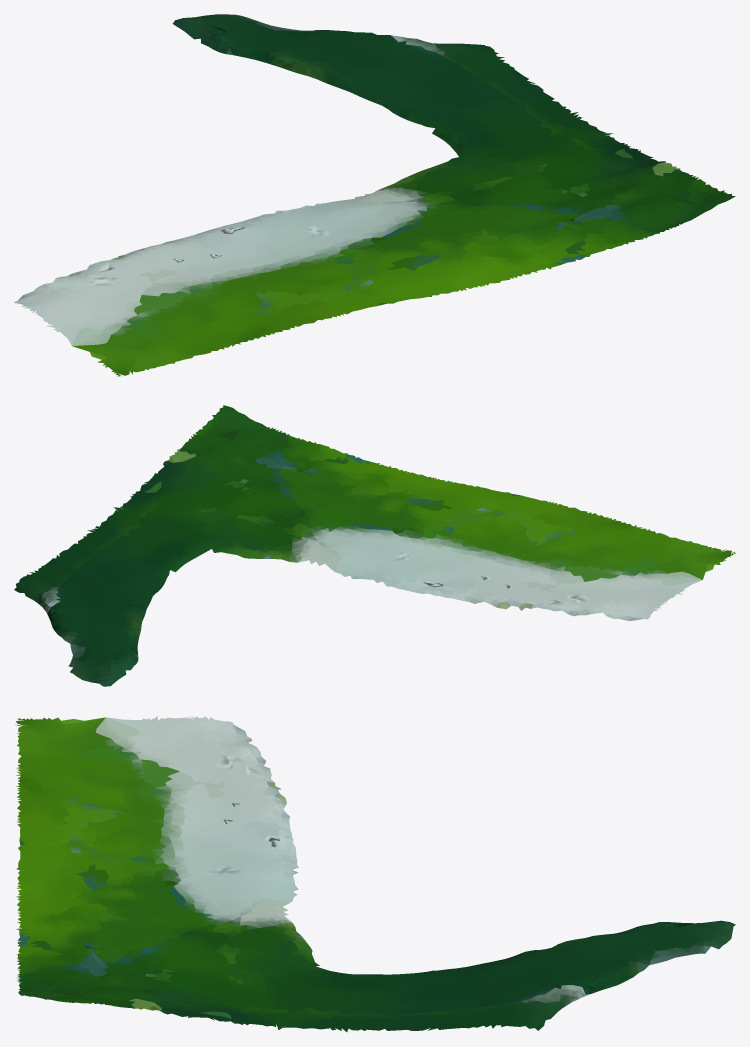
File: chunk_1_0_LOD0.glb
The picture shows the model from 3 angles, top to bottom: view 1: azimuth 30°, elevation 25°; view 2: azimuth 150°, elevation 25°; view 3: azimuth 270°, elevation 25°; orthographic projection. The views are drawn at different scales.
Parts seen in each view (by area): view 1: chunk_1_0_LOD0; view 2: chunk_1_0_LOD0; view 3: chunk_1_0_LOD0.
Boxes of the visible parts, x1,y1,x2,y2 form: chunk_1_0_LOD0: [14, 14, 735, 376]; chunk_1_0_LOD0: [14, 405, 735, 686]; chunk_1_0_LOD0: [15, 716, 735, 1031].
Bounding box in the file's own units: 100 × 6.07 × 98.47.
Materials: 1 (1 with a texture image).
